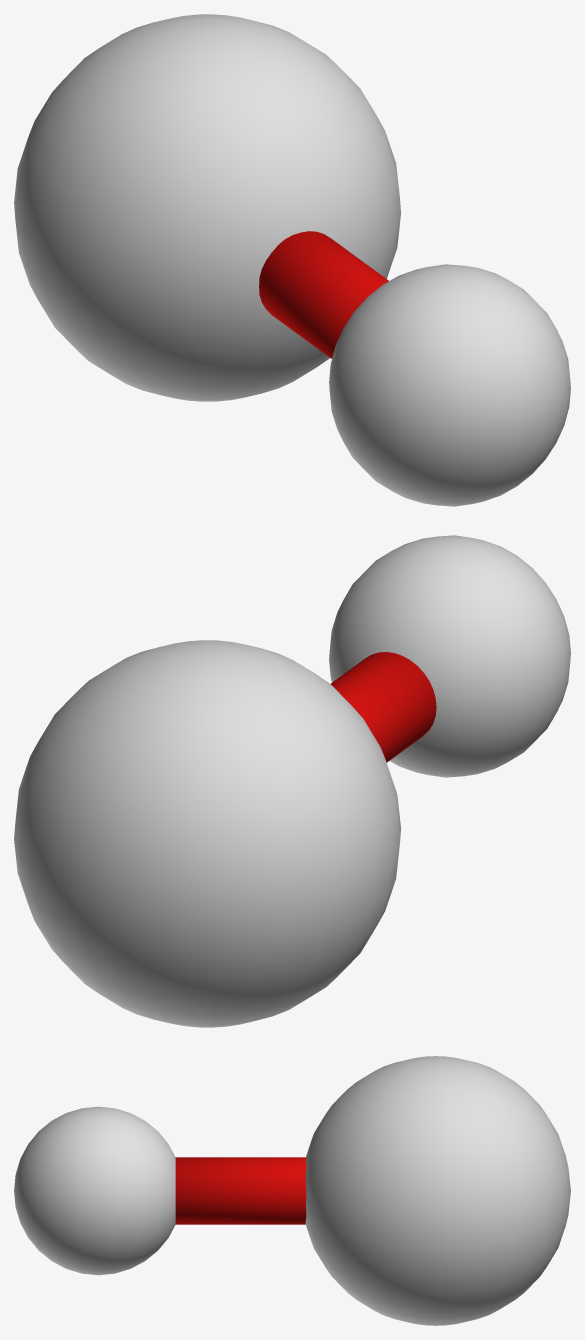
The picture shows the model from 3 angles, top to bottom: view 1: azimuth 30°, elevation 25°; view 2: azimuth 150°, elevation 25°; view 3: azimuth 270°, elevation 25°; orthographic projection. The views are drawn at different scales.
Parts seen in each view (by area): view 1: Sphere, H.002, bond.002; view 2: Sphere, H.002, bond.002; view 3: Sphere, H.002, bond.002.
Part boxes in pixels (x1=…): Sphere: x1=14, y1=14, x2=400, y2=401; H.002: x1=329, y1=264, x2=570, y2=506; bond.002: x1=259, y1=231, x2=388, y2=358; Sphere: x1=14, y1=640, x2=400, y2=1027; H.002: x1=329, y1=535, x2=570, y2=777; bond.002: x1=331, y1=652, x2=436, y2=762; Sphere: x1=305, y1=1056, x2=570, y2=1325; H.002: x1=14, y1=1106, x2=175, y2=1275; bond.002: x1=175, y1=1157, x2=306, y2=1224.
Size of the model in its own units: 160 by 160 by 330.
